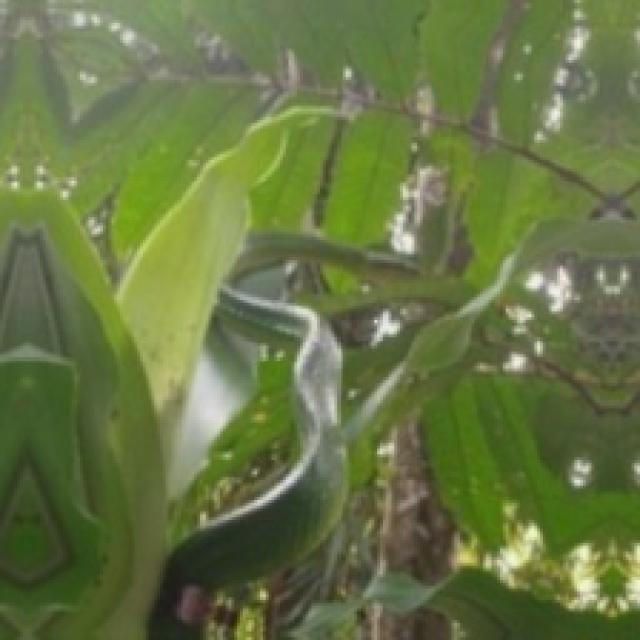red-tailed green ratsnake: (151, 286, 348, 639), (230, 232, 419, 278)
